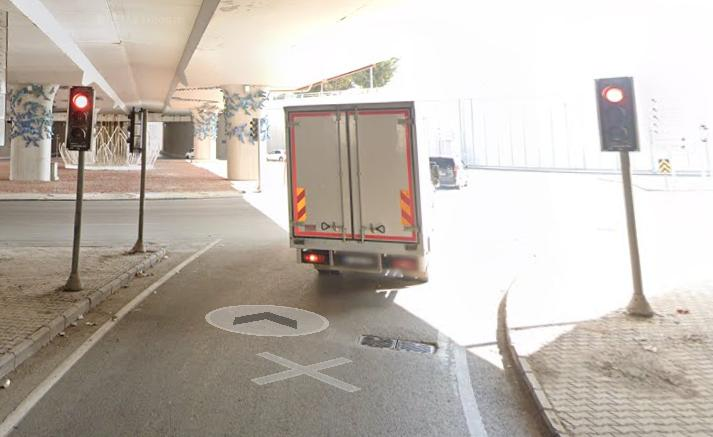redlight: (597, 77, 634, 154), (66, 86, 92, 153)
